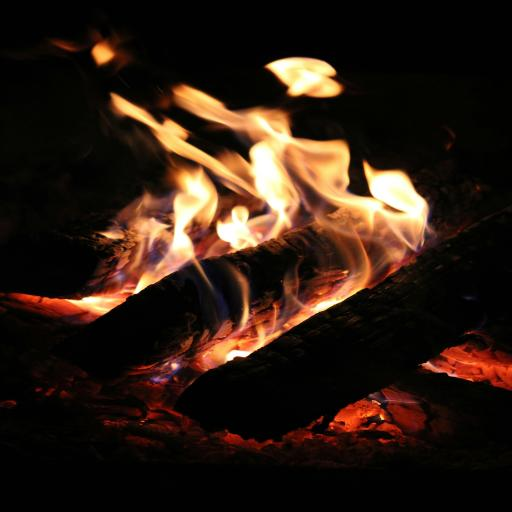fire: (9, 20, 512, 440)
